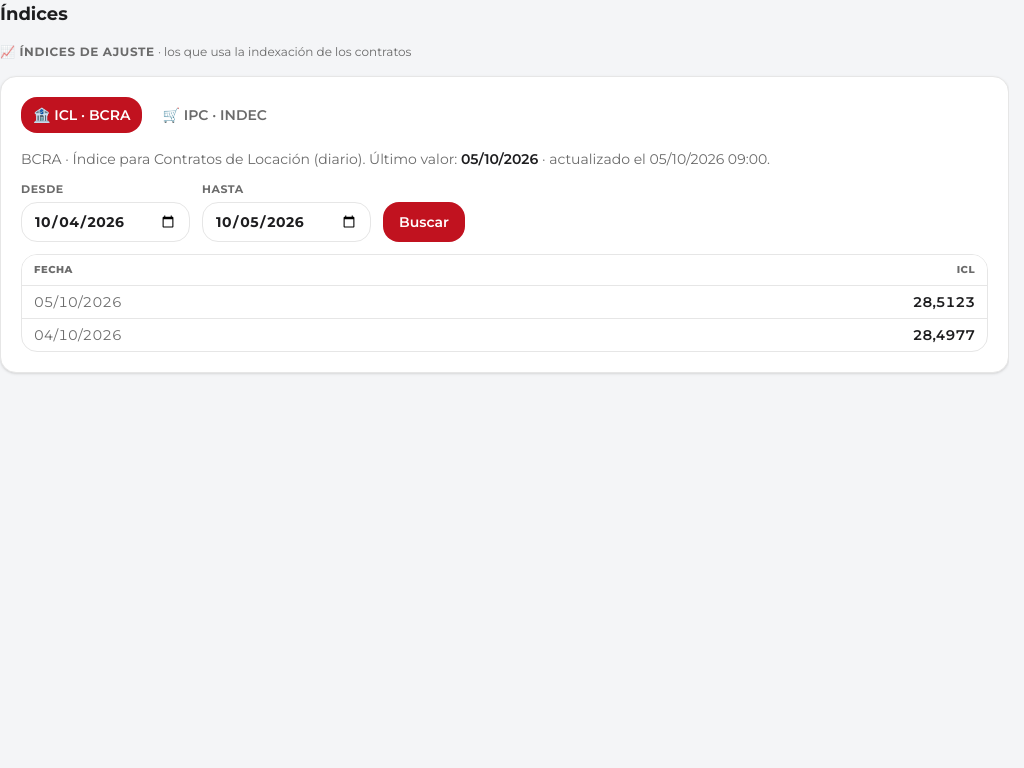
it: IndicesVista (punto 3 de Javier) › el IPC con la variación mensual y la interanual de cada mes
Click the tab "🛒 IPC · INDEC".
click(215, 115)  # box [150,97,279,133]
(page scrolled)
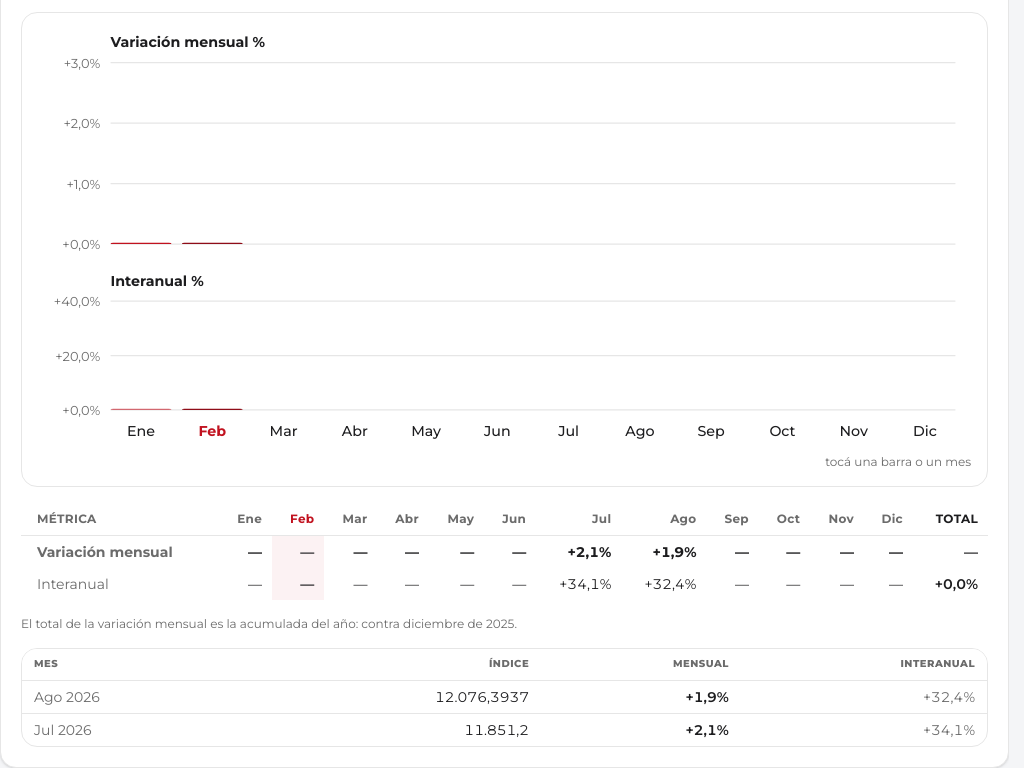
expect the text "Ago 2026" shows "+1,9%": met, box [686,688,729,706]
expect the text "Ago 2026" shows "+32,4%": met, box [923,688,975,706]
